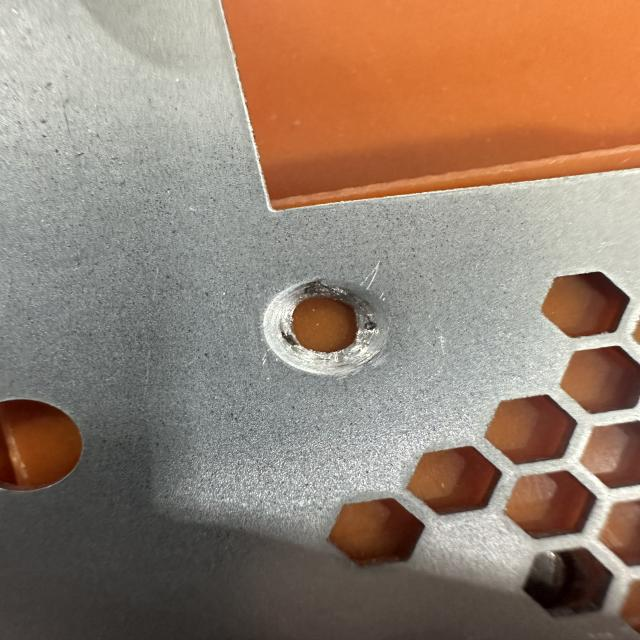Missing screw: (252, 274, 408, 384)
